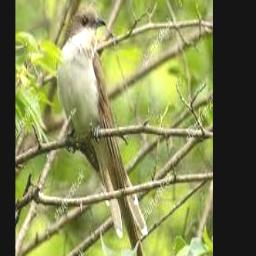Cuckoo: (59, 7, 147, 256)
